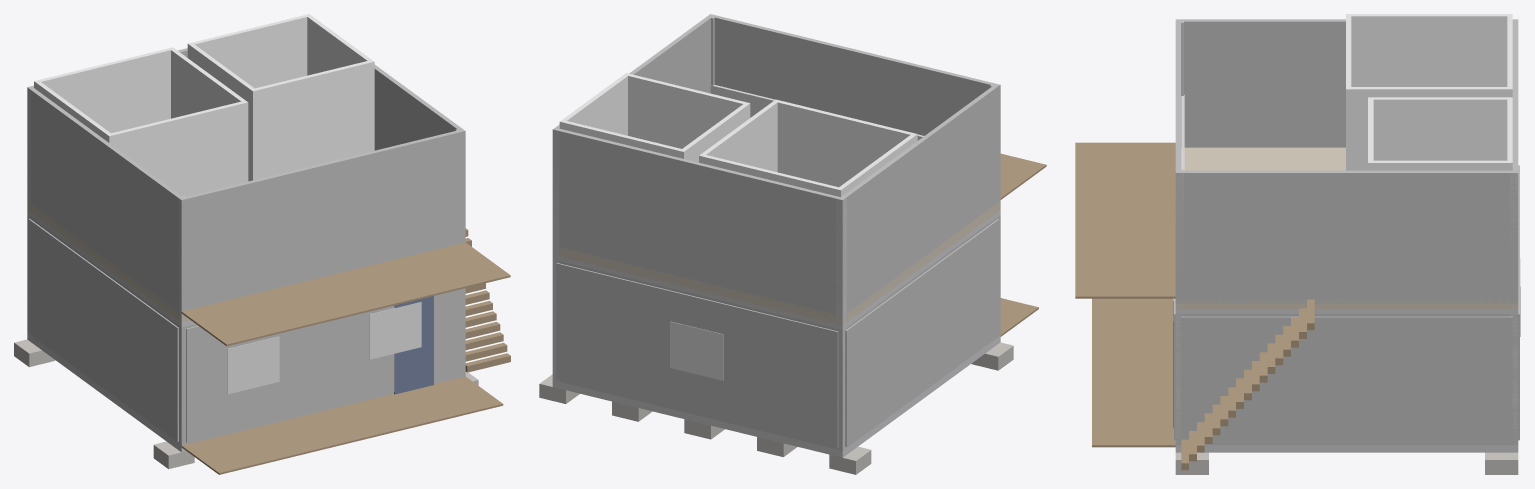
Rendered from Duplex-20-Base-LightGrey-LOD0.glb.
3 renders of one model, left to right at view 1: azimuth 30°, elevation 25°; view 2: azimuth 150°, elevation 25°; view 3: azimuth 270°, elevation 25°, orthographic. The views are drawn at different scales.
Parts seen in each view (by area): view 1: ExteriorShellUpper, ExteriorPanelsStandard, StudyUpper, BedroomUpper, BalconyUpper, BalconyGround, WindowsStandard, StaircaseExternal, ExteriorShell, EntryDoor, FoundationBlocks, FloorUpper (+3 smaller); view 2: ExteriorShellUpper, ExteriorPanelsStandard, BedroomUpper, StudyUpper, FloorUpper, VerticalStructure, FoundationBlocks, BaseFrame, ExteriorShell, WindowsStandard, TopFrame, BalconyUpper (+2 smaller); view 3: ExteriorShellUpper, ExteriorPanelsStandard, BalconyUpper, BedroomUpper, BalconyGround, StudyUpper, FloorUpper, StaircaseExternal, ExteriorShell, BaseFrame, VerticalStructure, TopFrame (+1 smaller).
Boxes of the visible parts, left/top/right/bottom form: ExteriorShellUpper: left=27, top=48, right=465, bottom=317; ExteriorPanelsStandard: left=28, top=218, right=461, bottom=442; StudyUpper: left=187, top=14, right=374, bottom=181; BedroomUpper: left=34, top=47, right=248, bottom=196; BalconyUpper: left=181, top=242, right=510, bottom=346; BalconyGround: left=181, top=376, right=503, bottom=474; WindowsStandard: left=227, top=302, right=421, bottom=394; StaircaseExternal: left=465, top=228, right=510, bottom=372; ExteriorShell: left=27, top=215, right=465, bottom=445; EntryDoor: left=394, top=296, right=433, bottom=394; FoundationBlocks: left=14, top=339, right=478, bottom=469; FloorUpper: left=27, top=201, right=190, bottom=322; ExteriorShellUpper: left=552, top=14, right=1000, bottom=318; ExteriorPanelsStandard: left=556, top=219, right=999, bottom=447; BedroomUpper: left=699, top=99, right=917, bottom=197; StudyUpper: left=559, top=73, right=750, bottom=162; FloorUpper: left=558, top=201, right=1000, bottom=325; VerticalStructure: left=552, top=17, right=998, bottom=449; FoundationBlocks: left=539, top=342, right=1013, bottom=474; BaseFrame: left=552, top=335, right=1000, bottom=457; ExteriorShell: left=556, top=215, right=1000, bottom=450; WindowsStandard: left=670, top=321, right=723, bottom=380; TopFrame: left=555, top=210, right=1000, bottom=329; BalconyUpper: left=1000, top=153, right=1046, bottom=199; ExteriorShellUpper: left=1175, top=19, right=1518, bottom=303; ExteriorPanelsStandard: left=1174, top=165, right=1519, bottom=443; BalconyUpper: left=1075, top=142, right=1175, bottom=298; BedroomUpper: left=1346, top=14, right=1512, bottom=170; BalconyGround: left=1092, top=298, right=1175, bottom=447; StudyUpper: left=1368, top=97, right=1512, bottom=170; FloorUpper: left=1175, top=147, right=1518, bottom=308; StaircaseExternal: left=1181, top=299, right=1314, bottom=470; ExteriorShell: left=1175, top=314, right=1518, bottom=445; BaseFrame: left=1175, top=445, right=1518, bottom=452; VerticalStructure: left=1175, top=21, right=1518, bottom=445; TopFrame: left=1175, top=309, right=1518, bottom=313.
Size of the model in its own units: 7.94 by 6 by 8.
